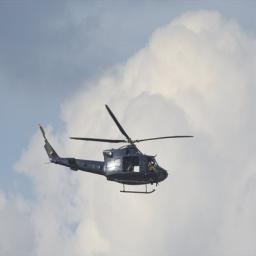helicopter: (37, 103, 197, 200)
